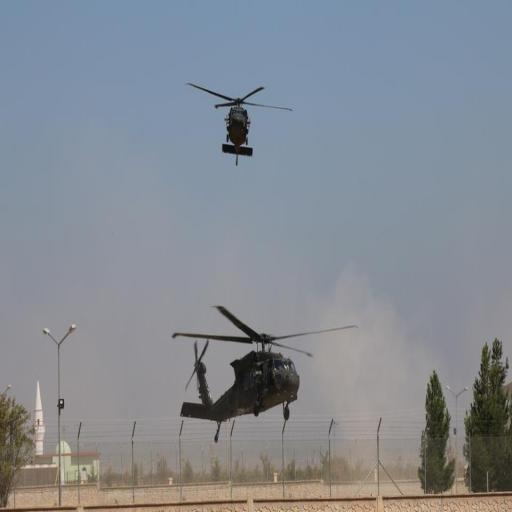helicopter: (165, 296, 360, 453), (185, 71, 300, 170)
